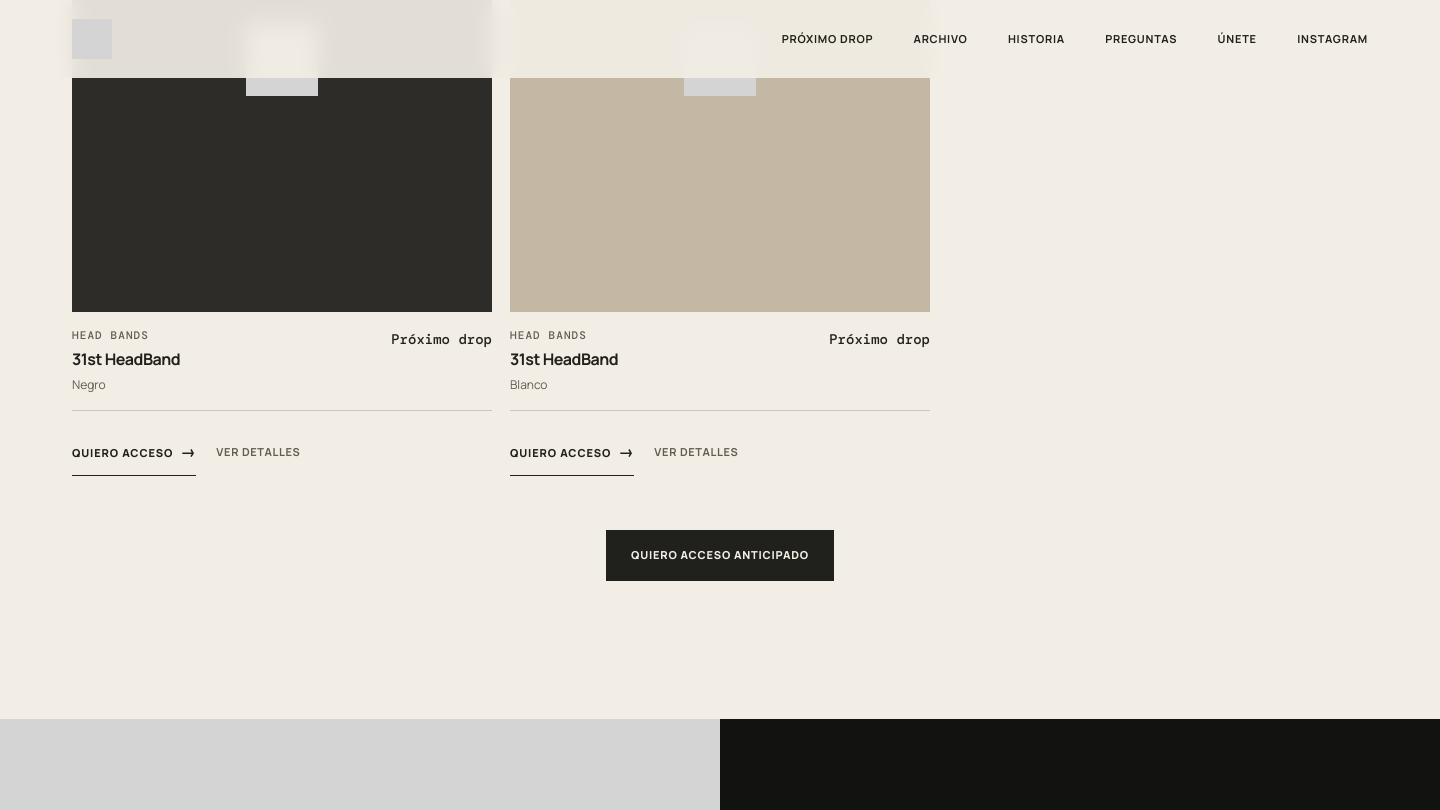
Test: lista de espera › «Quiero acceso» lleva el foco al email y nombra la pieza
(page scrolled)
Click the button with aria-label "quiero acceso de": (134,452) [72, 428, 196, 476]
(page scrolled)
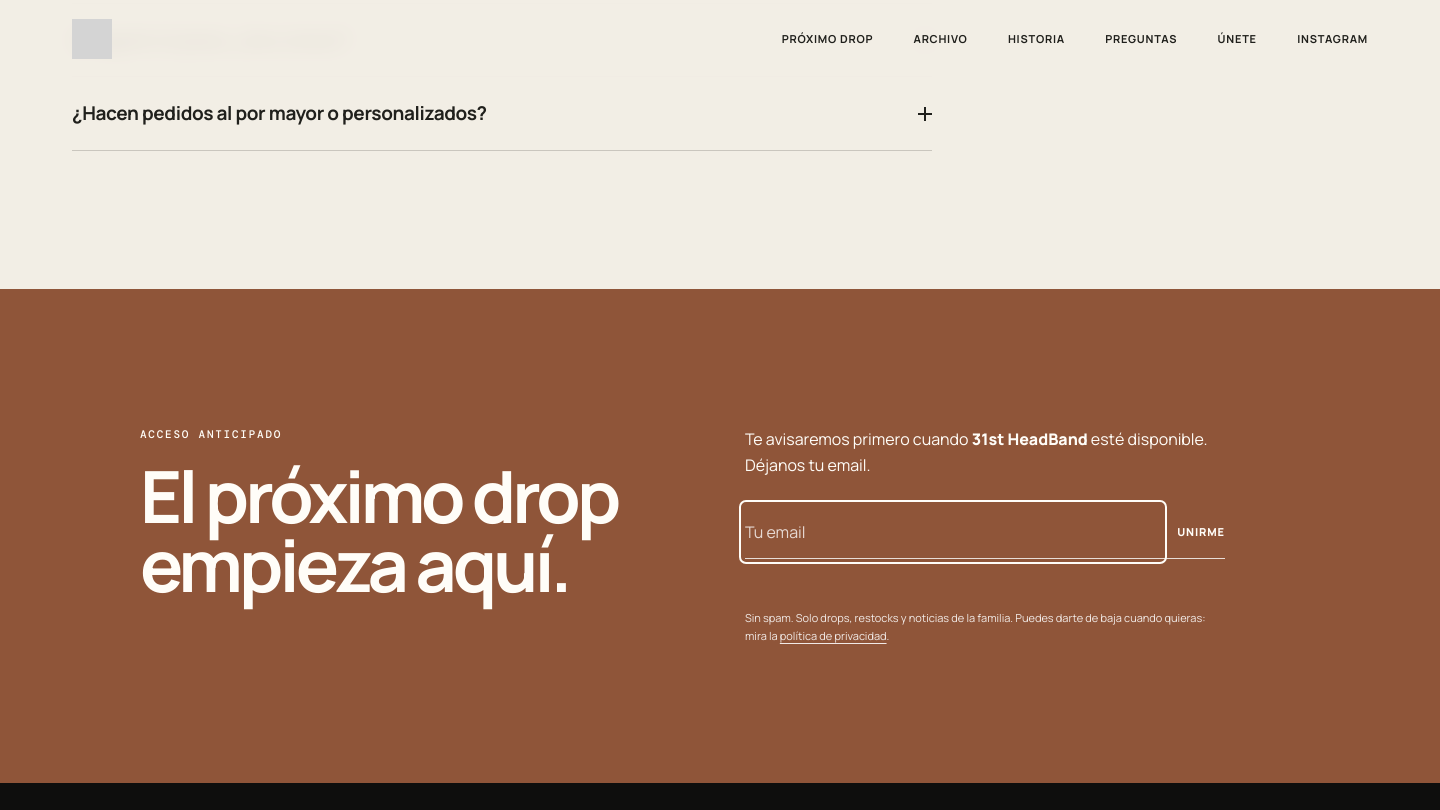
Expected: the text "Te avisaremos primero cuando" is shown, [745, 428, 972, 450]
